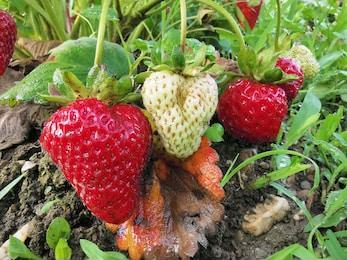Fresa: (36, 95, 154, 227), (215, 70, 292, 149)
